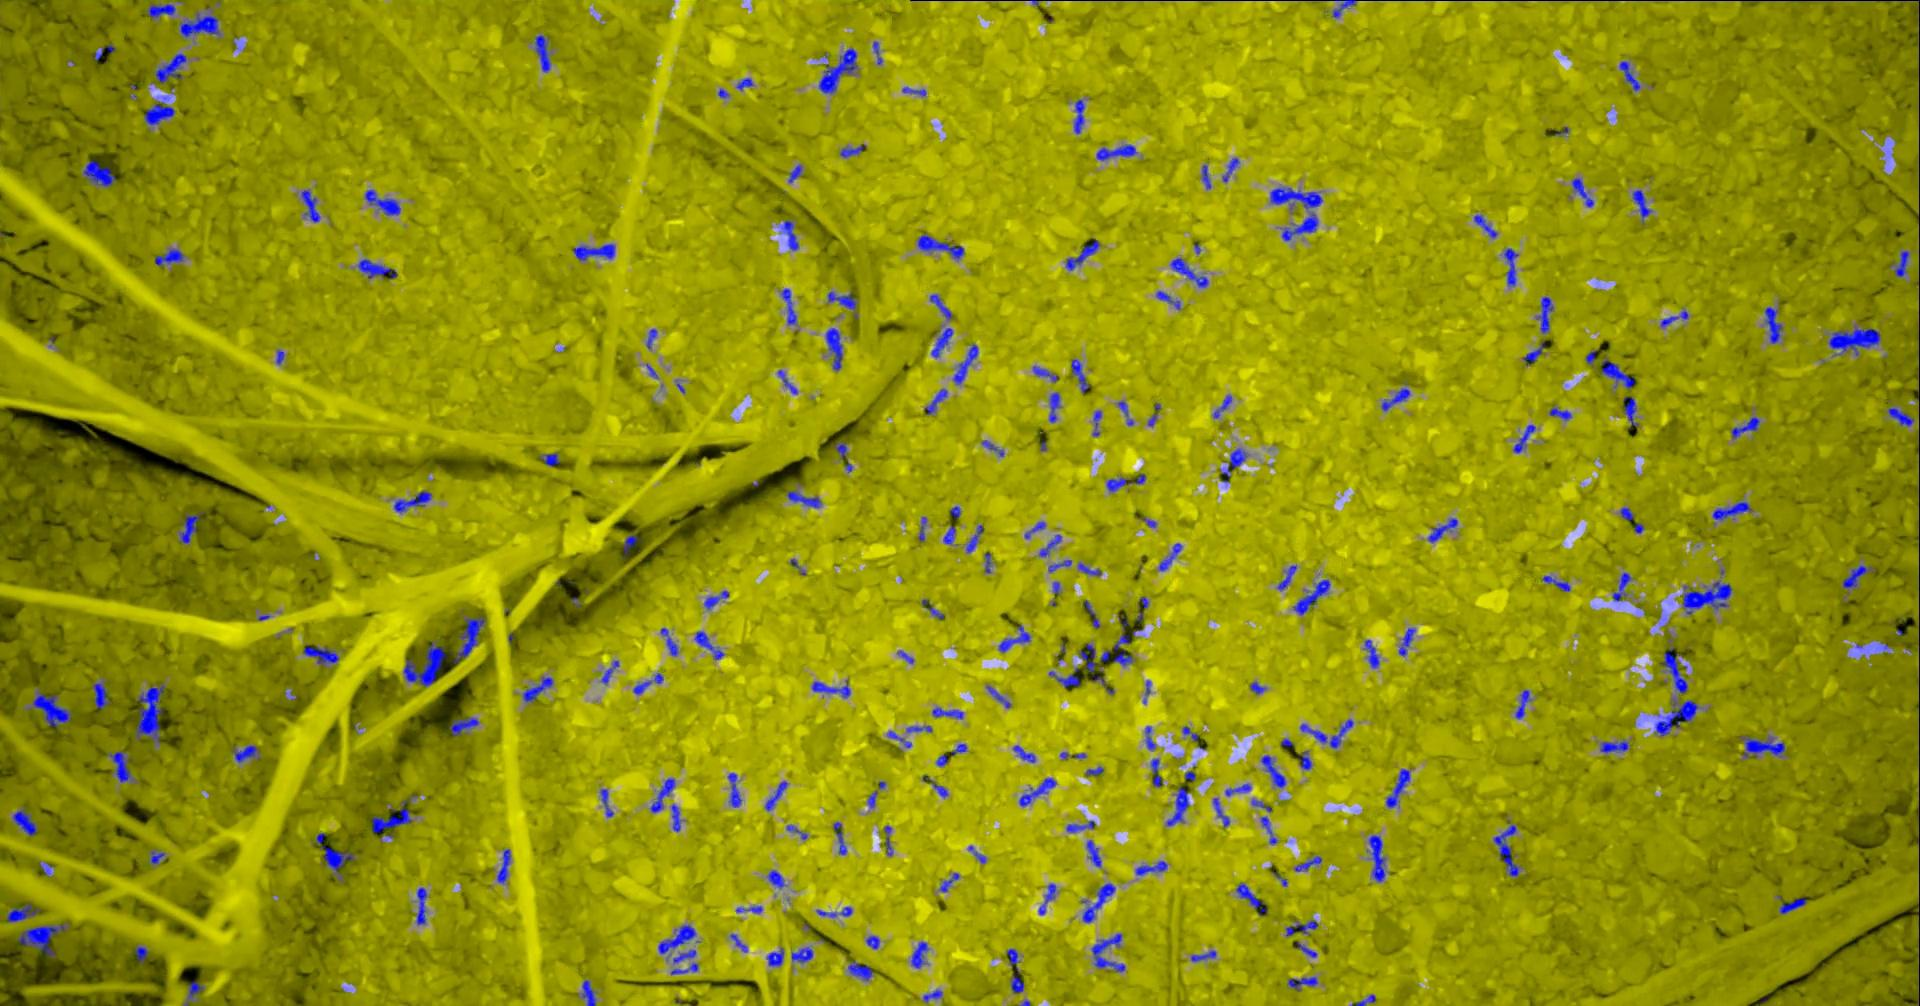ant: (405, 641, 448, 686), (317, 832, 356, 878), (820, 48, 858, 93), (137, 685, 166, 742), (1684, 580, 1733, 614), (1101, 617, 1134, 666), (1656, 700, 1700, 735), (1302, 719, 1355, 748), (455, 616, 488, 663), (19, 923, 66, 956), (1830, 326, 1882, 354), (1495, 824, 1523, 876), (34, 691, 72, 727), (1294, 579, 1332, 614), (373, 799, 413, 832), (1084, 883, 1117, 922), (1093, 934, 1126, 970), (1663, 647, 1689, 694), (1271, 187, 1324, 208), (1172, 257, 1209, 287), (1020, 777, 1058, 807), (659, 923, 697, 953), (919, 234, 965, 258), (1067, 239, 1101, 271), (1603, 357, 1636, 389), (1237, 882, 1269, 915), (954, 343, 979, 384), (1283, 213, 1319, 240), (182, 11, 222, 36), (366, 189, 403, 215), (1387, 768, 1411, 807), (1743, 735, 1785, 757), (157, 53, 188, 83), (145, 97, 177, 124), (1001, 624, 1032, 652), (1168, 788, 1191, 826), (85, 159, 117, 185), (1223, 448, 1248, 481), (1262, 754, 1288, 788), (395, 490, 433, 512), (696, 631, 725, 659), (651, 779, 676, 812), (829, 291, 858, 318), (1370, 835, 1387, 882), (359, 258, 397, 278), (827, 326, 844, 370), (110, 751, 135, 782), (574, 243, 616, 260), (1383, 384, 1411, 410), (524, 676, 554, 701), (1429, 518, 1459, 542), (1008, 948, 1025, 992), (1714, 500, 1752, 520), (182, 511, 204, 542), (303, 645, 340, 664), (813, 680, 852, 697), (634, 672, 665, 694), (1844, 565, 1873, 588), (766, 781, 789, 810), (1573, 177, 1595, 207), (932, 326, 954, 357), (1766, 306, 1784, 343), (1634, 189, 1653, 224), (14, 809, 39, 835), (1514, 424, 1537, 452), (1161, 542, 1183, 570), (1098, 144, 1137, 160), (1072, 359, 1091, 392), (1050, 667, 1081, 687), (926, 387, 949, 414), (302, 191, 321, 222), (1733, 417, 1761, 438), (536, 36, 552, 71), (1539, 296, 1556, 332), (8, 903, 41, 921), (1505, 246, 1520, 285), (931, 293, 954, 319), (1622, 61, 1641, 90), (451, 716, 480, 735), (1476, 213, 1498, 238), (988, 685, 1012, 708), (850, 959, 875, 981), (789, 490, 822, 507), (782, 220, 800, 250), (1040, 883, 1057, 915), (1040, 533, 1063, 556), (156, 248, 185, 265), (1614, 572, 1632, 601), (1137, 860, 1170, 875), (783, 288, 797, 324), (1399, 627, 1417, 655), (662, 627, 679, 655), (1525, 340, 1545, 365), (1890, 406, 1915, 426), (1279, 564, 1298, 589), (705, 589, 730, 608), (1288, 920, 1319, 935), (1081, 643, 1097, 672), (729, 772, 743, 807), (498, 848, 512, 883), (1662, 309, 1689, 326), (234, 744, 260, 762), (778, 370, 799, 392), (968, 525, 984, 553), (1084, 600, 1101, 627), (1214, 798, 1230, 826), (1262, 815, 1279, 843), (1157, 290, 1181, 309), (185, 981, 204, 1005), (1625, 396, 1641, 426), (1543, 575, 1572, 591), (1366, 639, 1382, 668), (1516, 688, 1531, 718), (1288, 976, 1319, 989), (1297, 855, 1323, 871), (1782, 897, 1808, 913), (913, 941, 930, 968), (1214, 395, 1233, 418), (923, 600, 946, 619), (94, 682, 110, 708), (888, 730, 913, 747), (836, 821, 848, 854), (150, 3, 177, 18), (602, 661, 620, 683), (818, 906, 853, 917), (1119, 401, 1135, 426), (1896, 250, 1911, 276), (1034, 366, 1059, 381), (1026, 521, 1048, 539), (1335, 0, 1357, 17), (1224, 158, 1241, 180), (1015, 746, 1037, 762), (418, 887, 428, 923), (841, 144, 867, 158), (1088, 840, 1102, 866), (941, 873, 961, 890), (983, 439, 1004, 456), (1227, 782, 1252, 796), (602, 788, 615, 815), (583, 979, 597, 1005), (1076, 99, 1086, 133), (623, 533, 639, 556), (935, 706, 965, 718), (1079, 561, 1103, 575), (95, 43, 116, 60), (1050, 392, 1062, 422), (1067, 821, 1096, 832), (1138, 596, 1150, 621), (1550, 406, 1573, 420), (1109, 478, 1131, 492), (1603, 741, 1630, 752), (1152, 758, 1163, 786), (672, 963, 700, 974), (770, 870, 787, 888), (731, 934, 749, 951), (768, 948, 785, 967), (1298, 941, 1318, 956), (1149, 401, 1162, 426), (1049, 559, 1073, 572), (792, 948, 814, 962), (674, 949, 697, 962), (541, 452, 561, 466), (1192, 950, 1217, 962), (673, 804, 683, 831), (885, 826, 894, 855), (933, 780, 949, 796), (943, 525, 957, 542), (136, 945, 150, 963), (1352, 995, 1377, 1005), (1300, 749, 1313, 768), (1145, 727, 1156, 749), (1183, 727, 1200, 741), (738, 77, 756, 90), (790, 164, 803, 182), (836, 441, 848, 459), (919, 516, 928, 541), (924, 989, 943, 1001), (903, 86, 927, 95), (1203, 164, 1211, 188), (1095, 410, 1103, 434), (648, 328, 658, 348), (737, 904, 763, 912), (1251, 682, 1267, 694), (985, 553, 994, 573), (1622, 507, 1636, 520), (152, 851, 166, 864), (867, 935, 881, 948), (1086, 766, 1105, 775), (908, 725, 933, 732)
